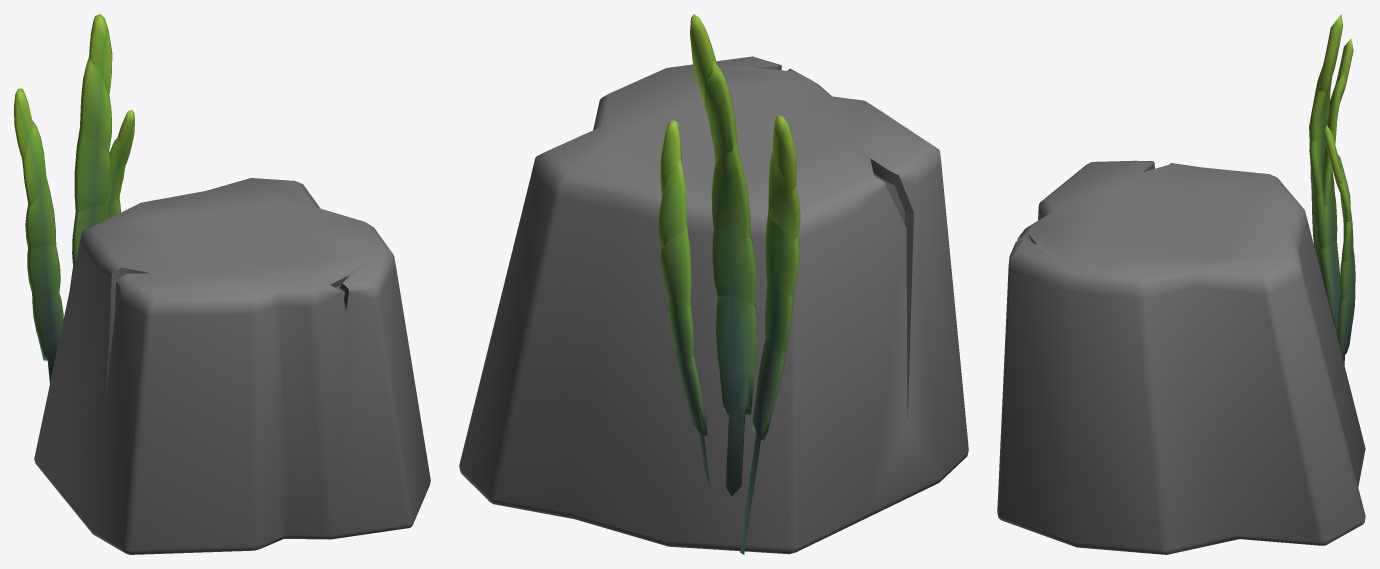
Rendered from Rock_Moss_01.fbx.
3 views of the same model, side by side, from view 1: azimuth 30°, elevation 25°; view 2: azimuth 150°, elevation 25°; view 3: azimuth 270°, elevation 25° (orthographic). The views are drawn at different scales.
Parts seen in each view (by area): view 1: Rock_Moss_01; view 2: Rock_Moss_01; view 3: Rock_Moss_01.
Boxes of the visible parts, <box> form: Rock_Moss_01: <box>14,14,430,554</box>; Rock_Moss_01: <box>459,14,968,554</box>; Rock_Moss_01: <box>997,14,1365,554</box>.
Size of the model in its own units: 181 by 232 by 178.
